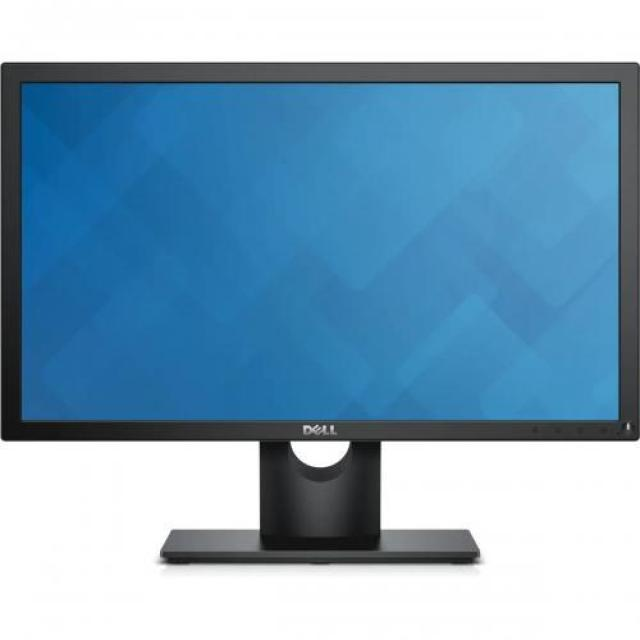monitor: (2, 60, 640, 640)
